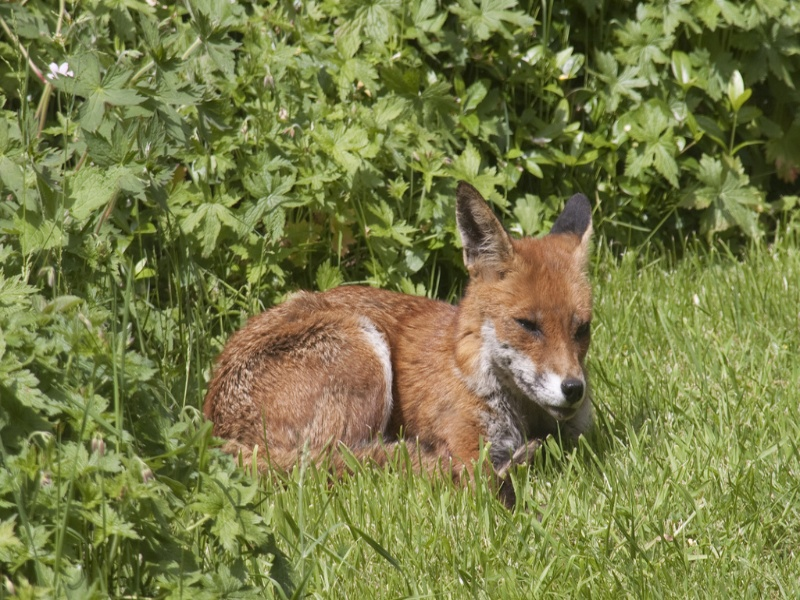fox: (198, 189, 601, 494)
